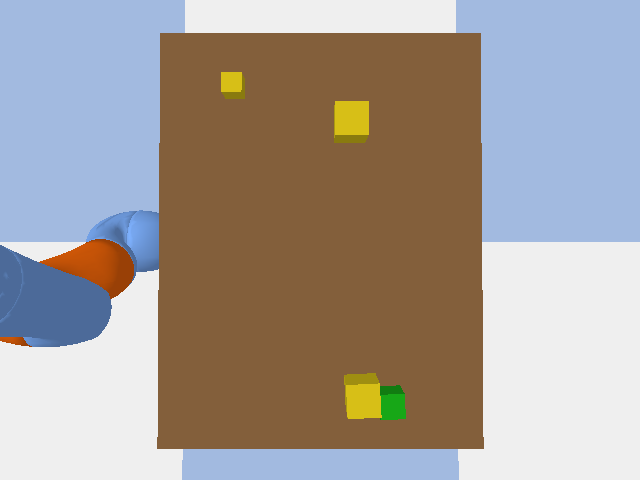green_obj: (380, 385, 405, 419)
yellow_obj: (344, 373, 381, 418), (334, 101, 368, 142), (221, 72, 244, 98)
